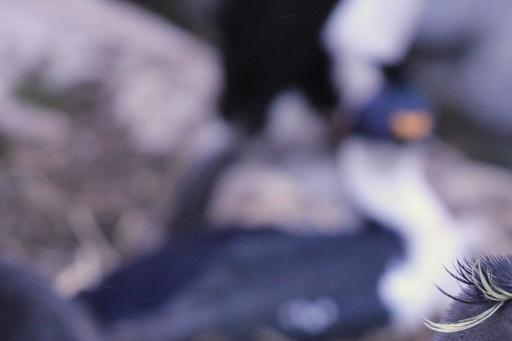Southern Rockhopper Penguin: (286, 182, 512, 341)
